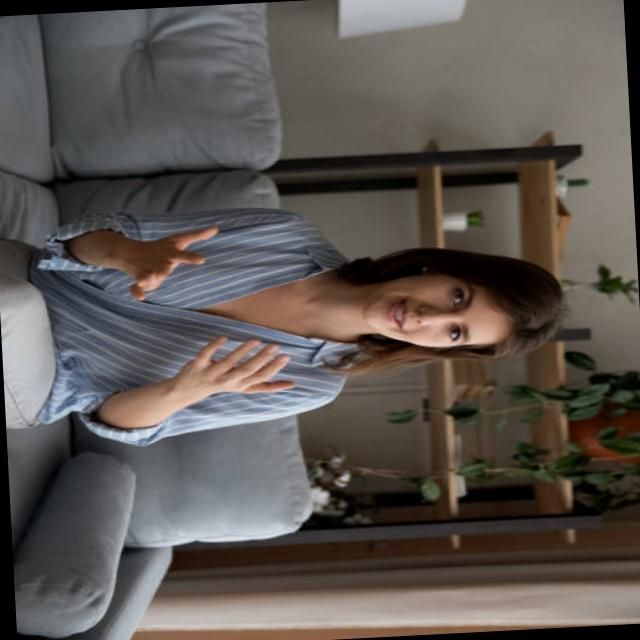Hand: (165, 328, 302, 401), (115, 223, 227, 306)
